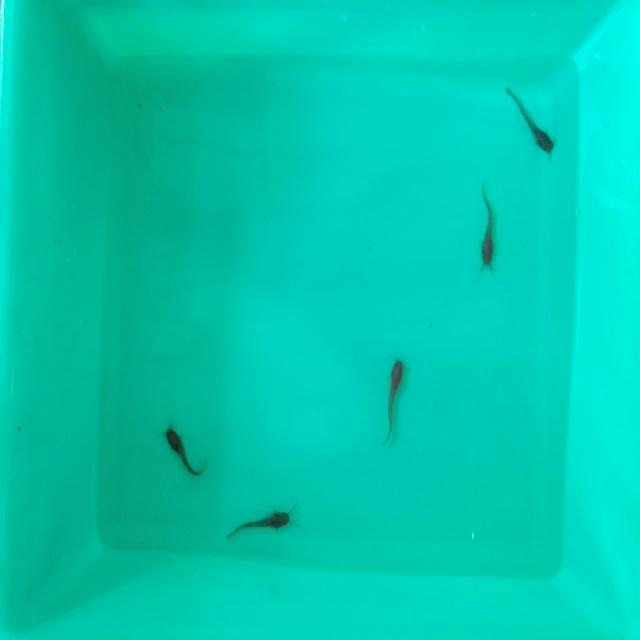lele: (504, 82, 558, 155), (223, 508, 298, 541), (163, 428, 205, 480), (385, 360, 405, 441), (481, 190, 496, 266)
